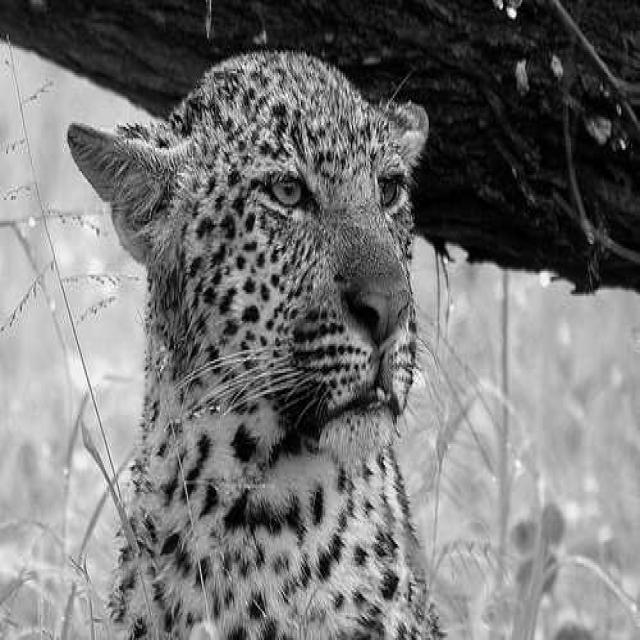Leopard: (65, 44, 447, 638)
